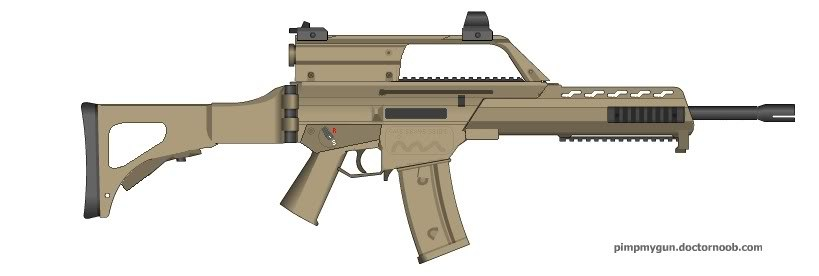Arma Real: (76, 10, 796, 258)
